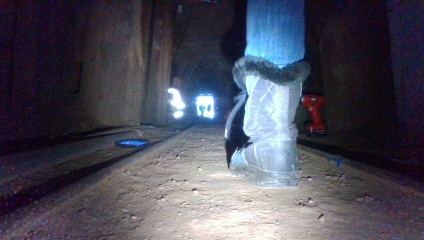cellphone: (115, 137, 151, 150)
drill: (297, 93, 329, 139)
manikin: (166, 74, 193, 128)
